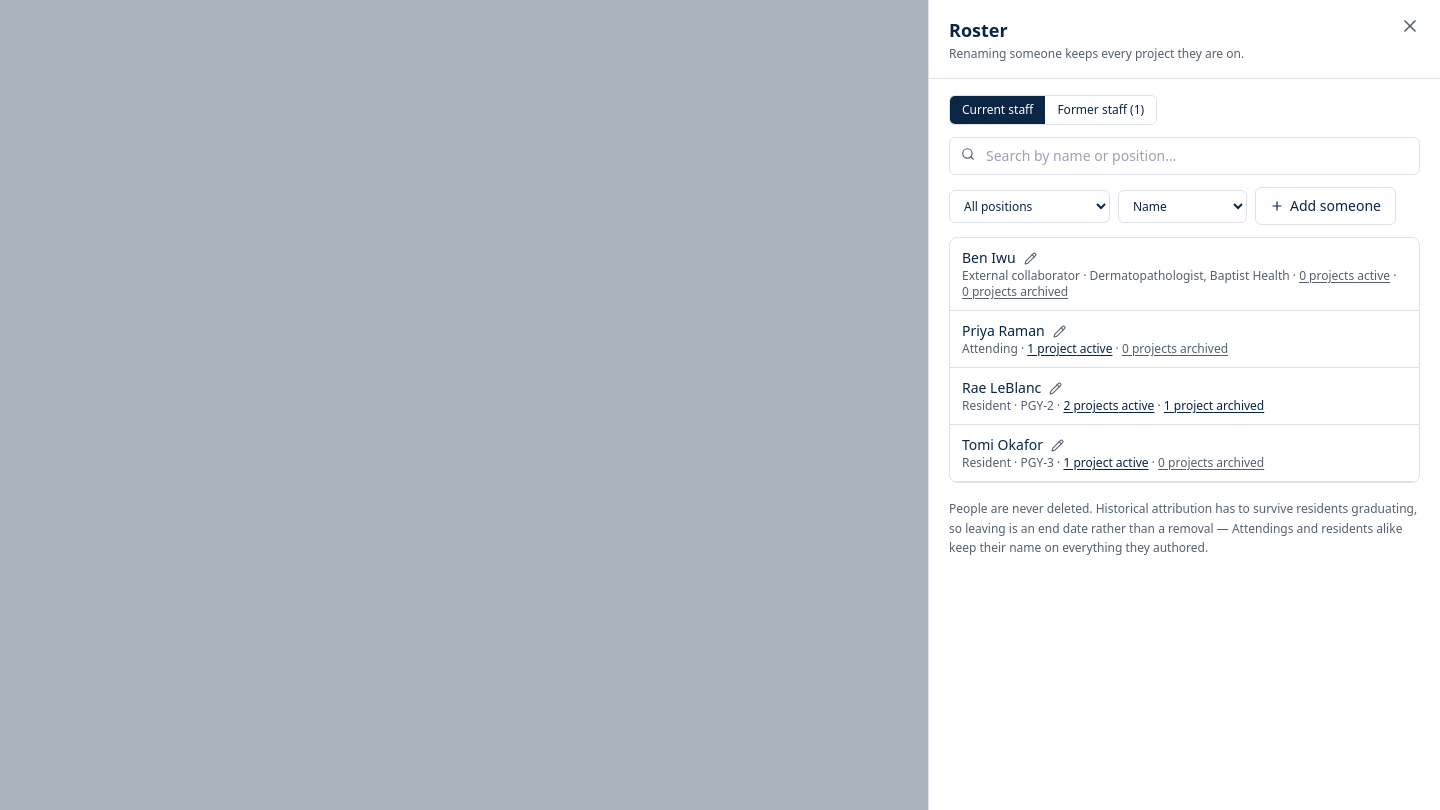
Test: searching the roster › says nothing matched rather than showing everyone
Type "zzzz" into the field named "Search the roster" at (1184, 156), box [949, 137, 1420, 175]
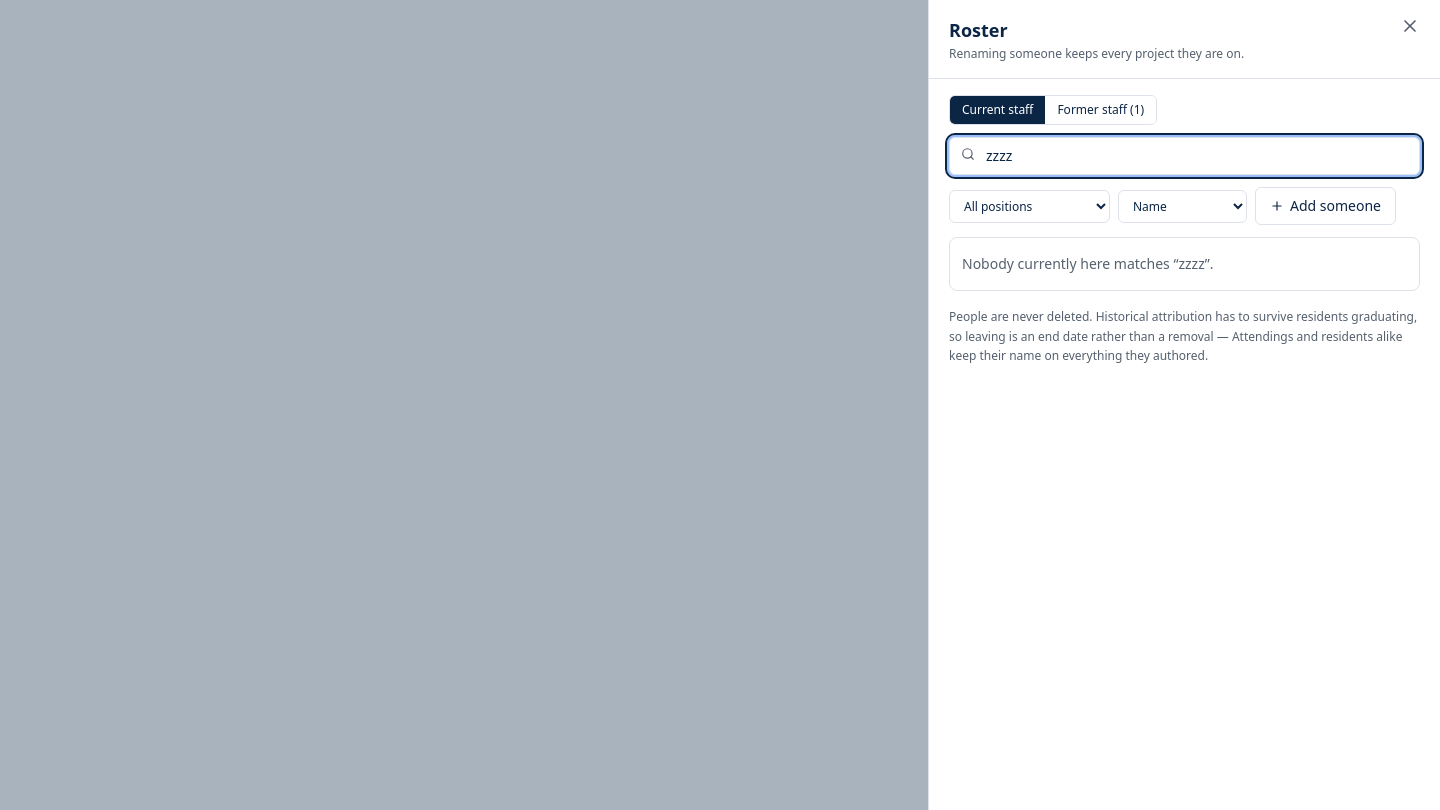
Check: the text "Nobody currently here matches “zzzz”." is shown, box [962, 254, 1214, 273]
